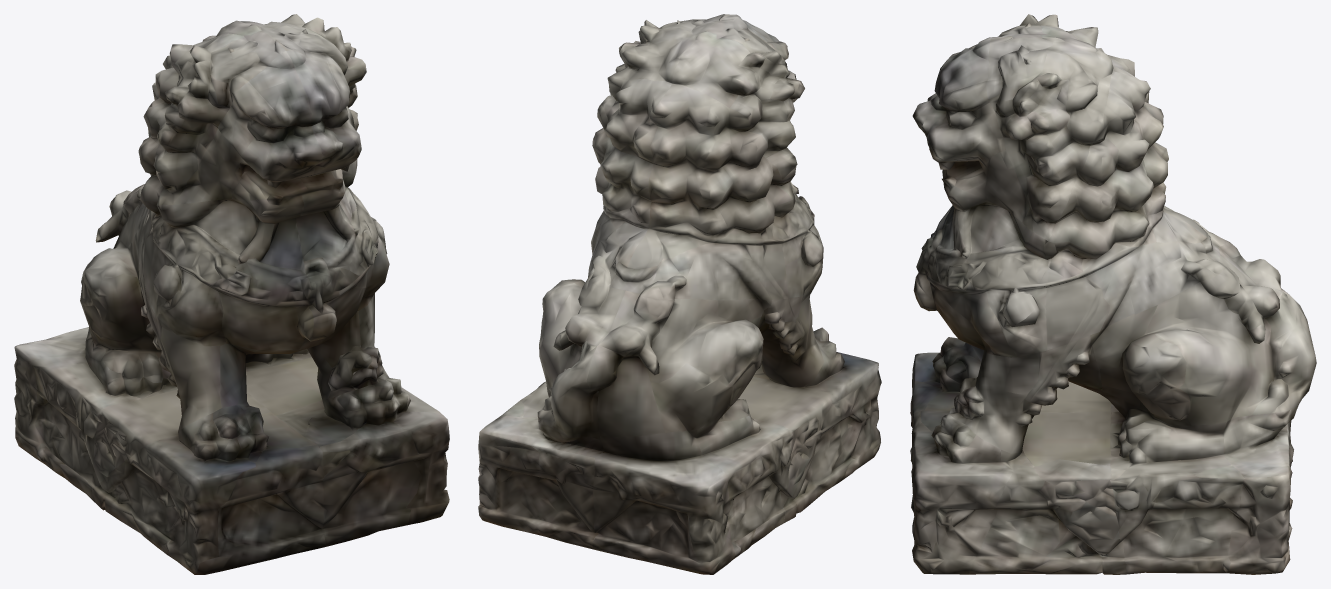
Rendered from lion-low.glb.
3 renders of one model, left to right at view 1: azimuth 30°, elevation 25°; view 2: azimuth 150°, elevation 25°; view 3: azimuth 270°, elevation 25°, orthographic. The views are drawn at different scales.
Bounding box in the file's own units: 0.5807 × 0.9999 × 0.7703.
1 material, 1 textured.
